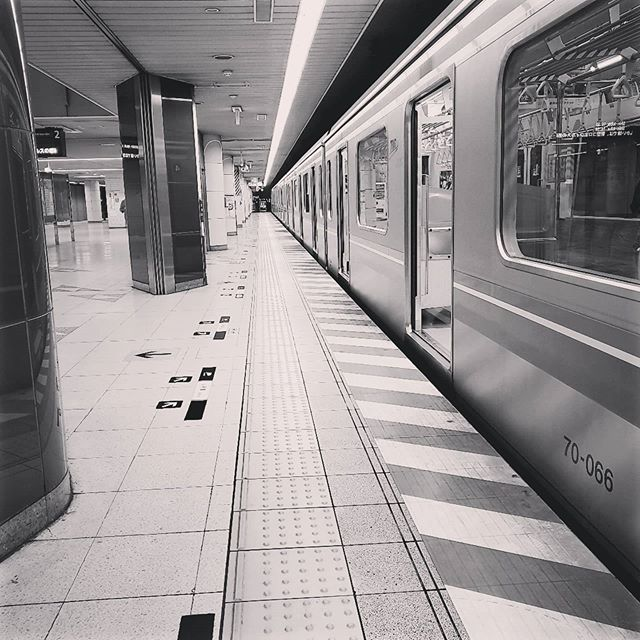collumn: (110, 67, 218, 297)
train: (265, 1, 640, 588)
